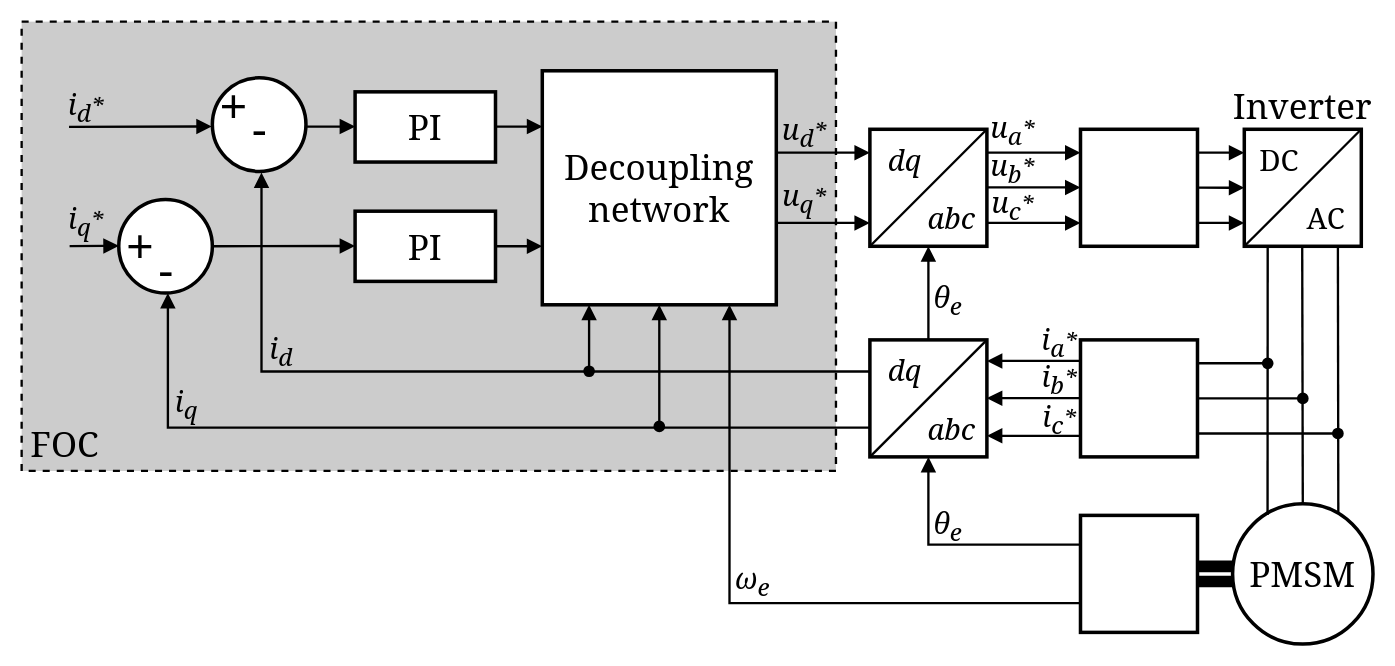
Some shapes in this 1395 by 666 pixel diagram are drawn without their labels. Here are the shapes that lost their labels. From the top down, the box of each, then its label:
(1078, 127, 1199, 247): PWM gen
(1078, 338, 1199, 458): ADCs
(1078, 513, 1199, 634): ENC / DEC
